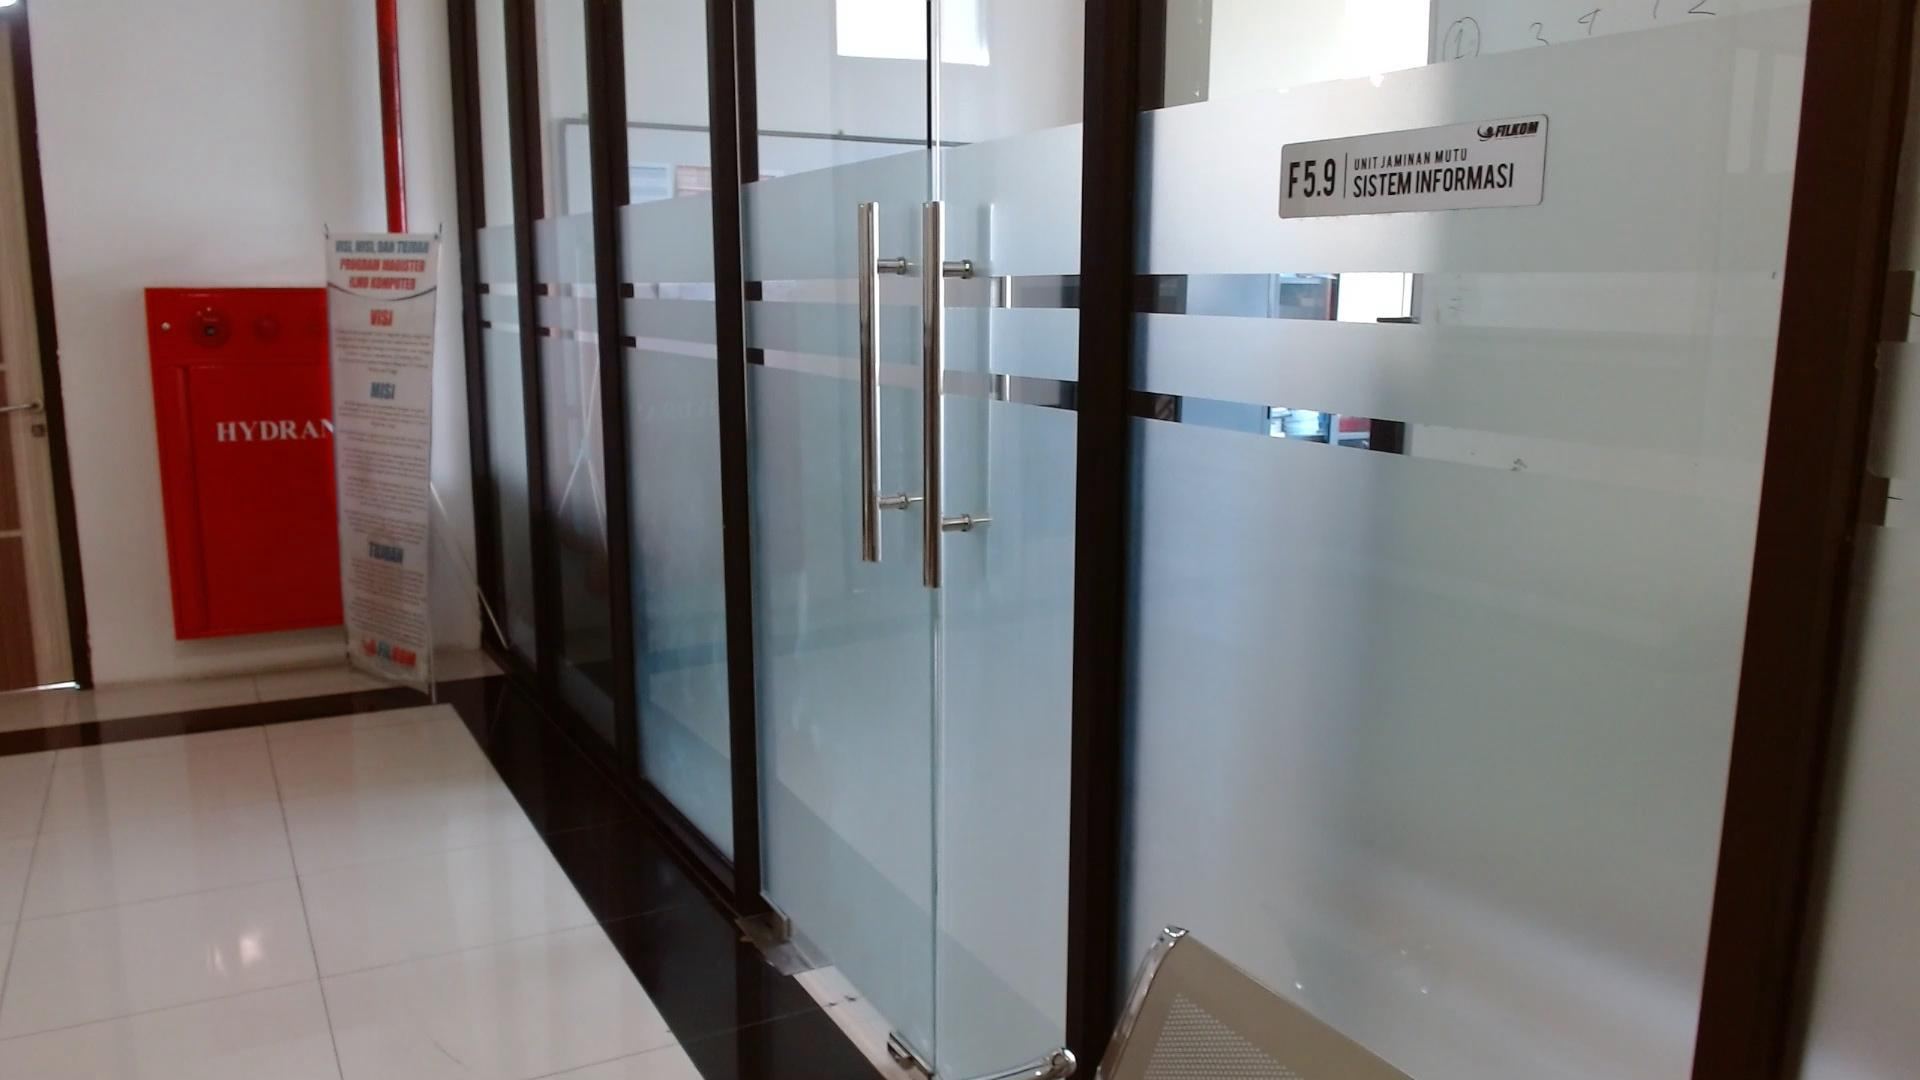plate: (1279, 113, 1549, 219)
